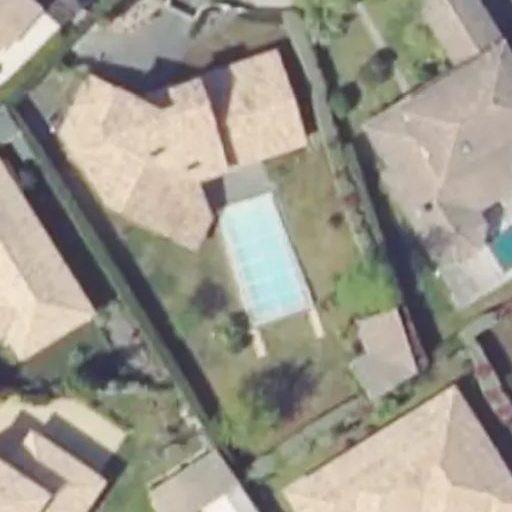pool: (217, 203, 294, 280)
